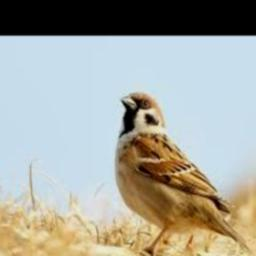Sparrow: (116, 93, 253, 256)
